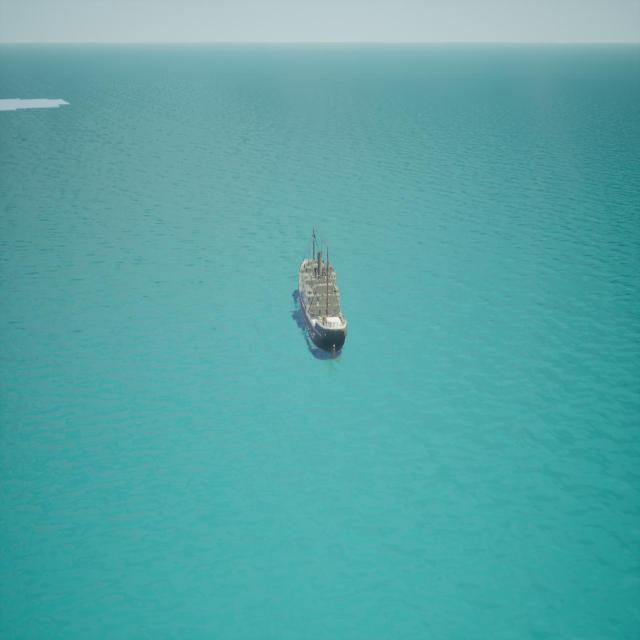fishing ship: (294, 227, 348, 362)
